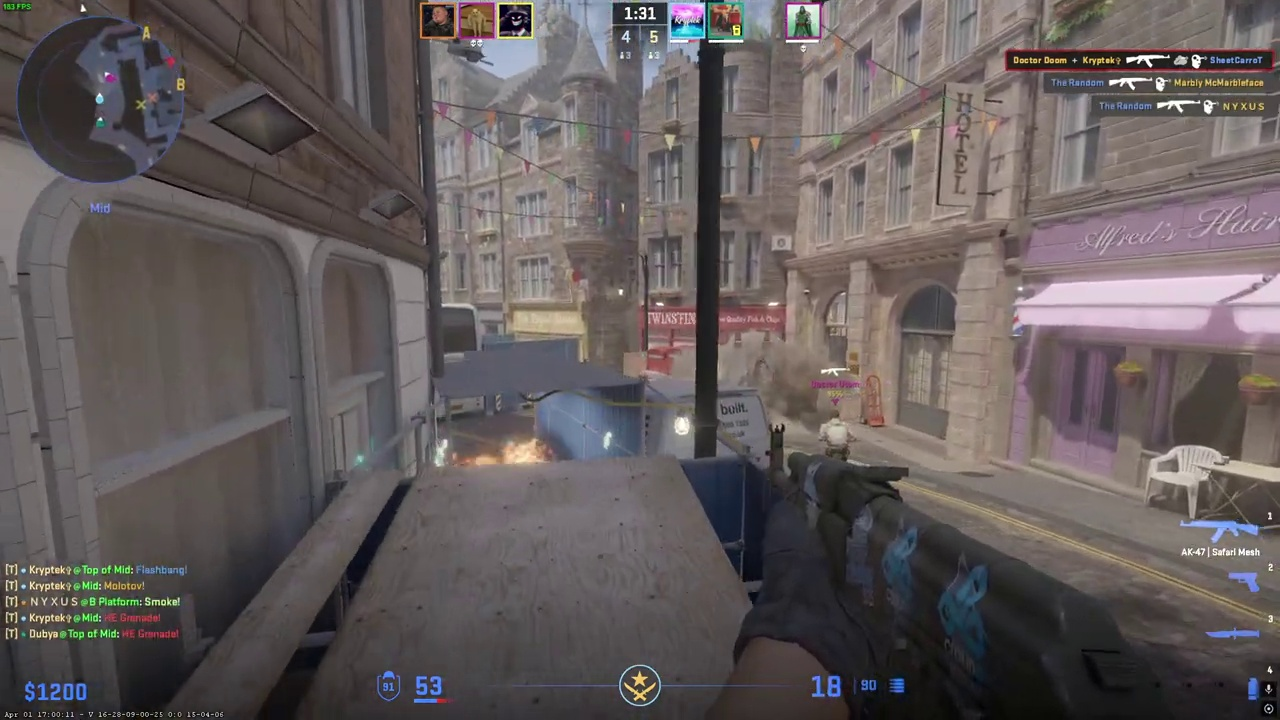Terrorist: (821, 411, 852, 463)
